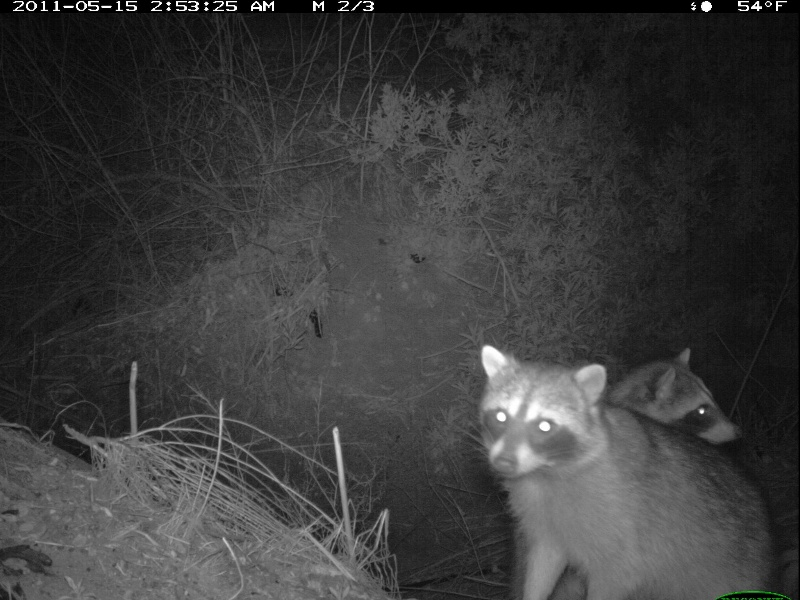raccoon: (477, 343, 776, 597), (516, 345, 742, 594)
